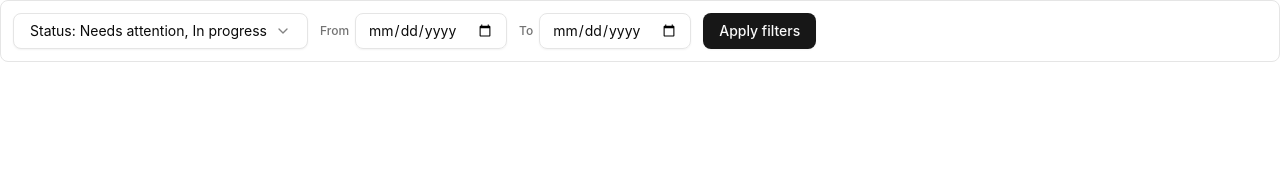
Test: EscalationFilters › defaults to needs_attention and in_progress checked, responded unchecked
The width and height of the screenshot is (1280, 180).
Click the button with test id "escalation-filter-status-trigger": (160, 31) [13,13,308,49]
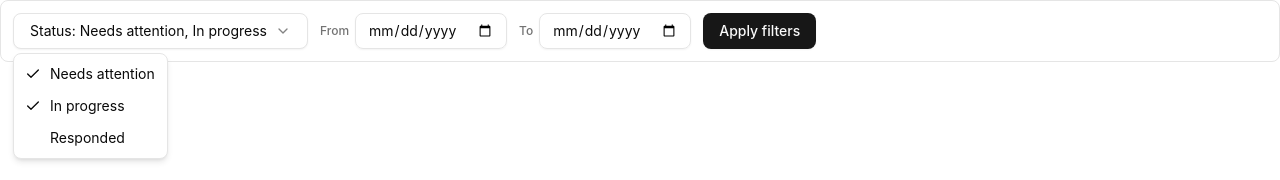
Result: the menu item with test id "escalation-filter-status-needs_attention-checkbox" is checked at [25,65,155,82]
Result: the menu item with test id "escalation-filter-status-in_progress-checkbox" is checked at [25,97,124,114]
Result: the menu item with test id "escalation-filter-status-responded-checkbox" is not checked at [50,129,125,146]
